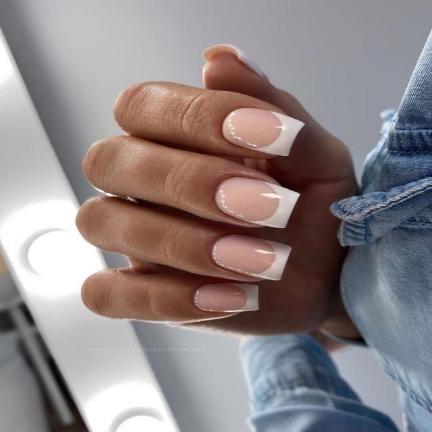Nail: (214, 177, 300, 227), (221, 108, 305, 156), (210, 234, 292, 280), (193, 283, 259, 312)
